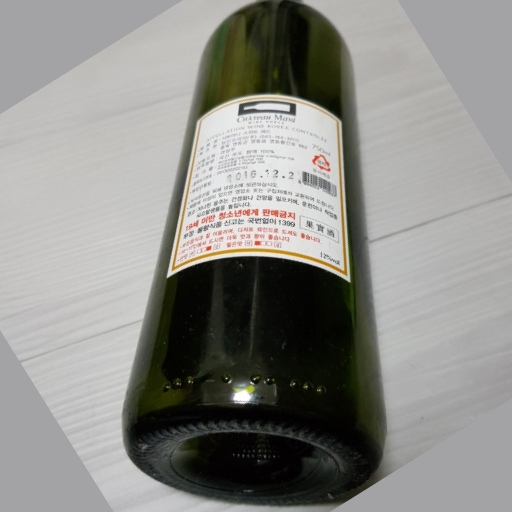Glass_2: (116, 1, 390, 508)
